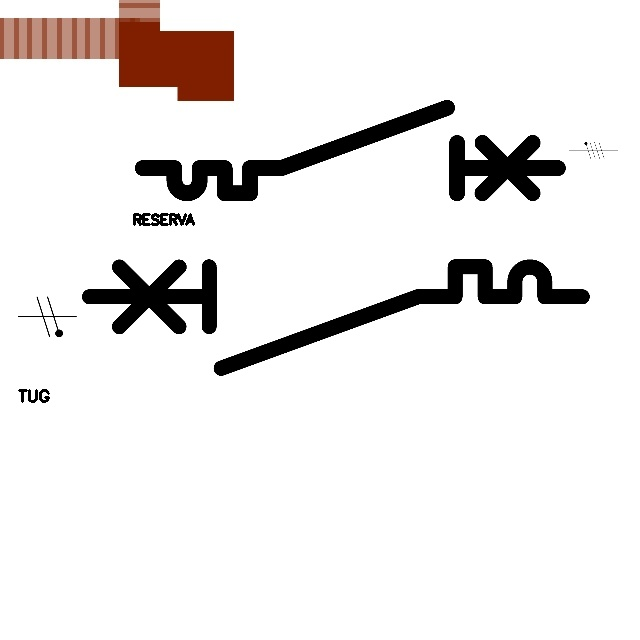interruptor_termomagnetico: (76, 254, 595, 381), (132, 97, 568, 204)
